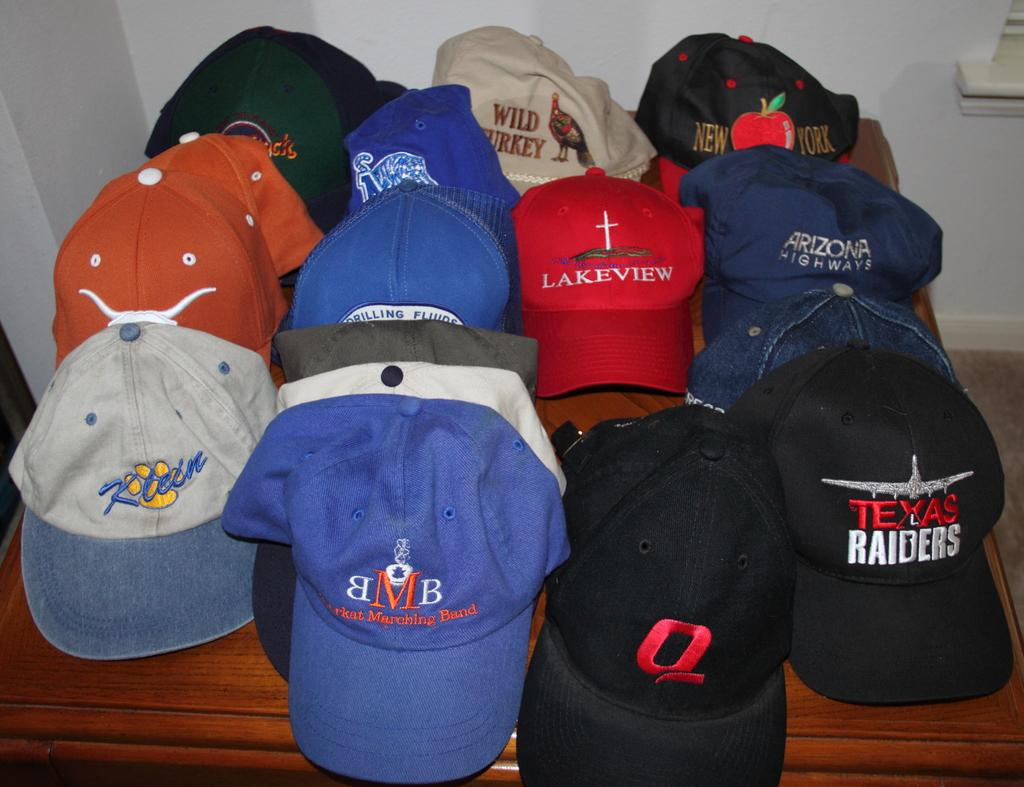Hat: (6, 25, 1017, 787)
